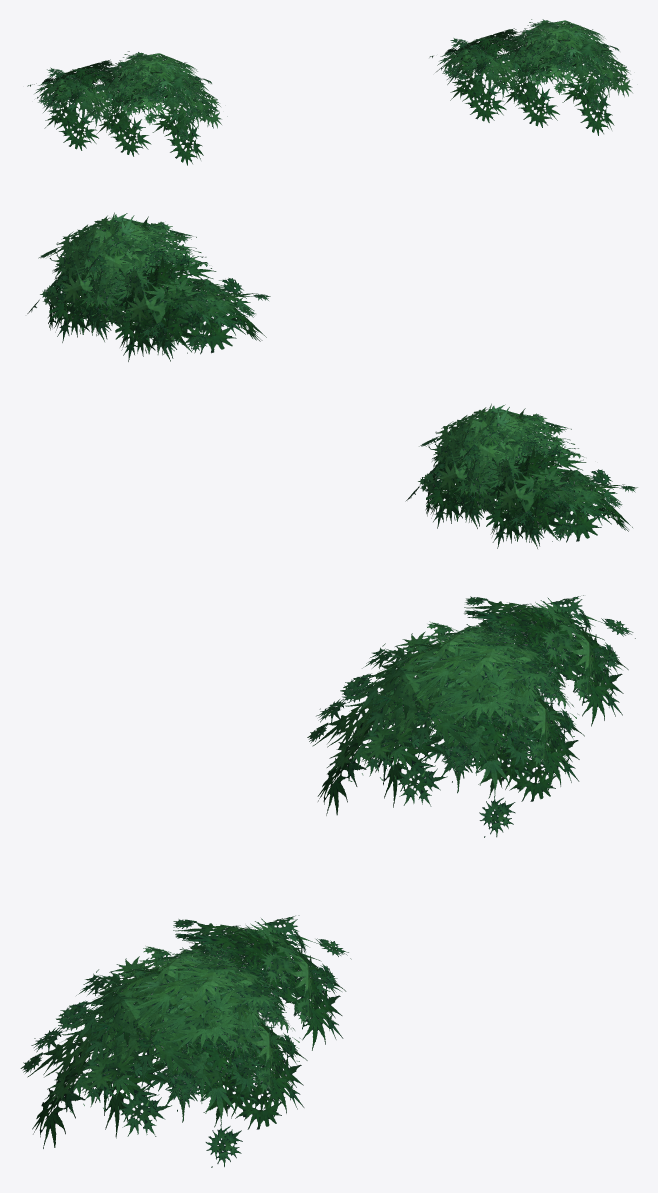
The model's file is Area_12_7.fbx.
3 views of the same model, one above another, from view 1: azimuth 30°, elevation 25°; view 2: azimuth 150°, elevation 25°; view 3: azimuth 270°, elevation 25° (orthographic). The views are drawn at different scales.
Visible parts, largest first — view 1: Area_12_7; view 2: Area_12_7; view 3: Area_12_7.
Boxes of the visible parts, <box> form: Area_12_7: <box>27,19,632,165</box>; Area_12_7: <box>27,212,637,548</box>; Area_12_7: <box>20,595,635,1167</box>.
Bounding box in the file's own units: 1698 × 317 × 914.
